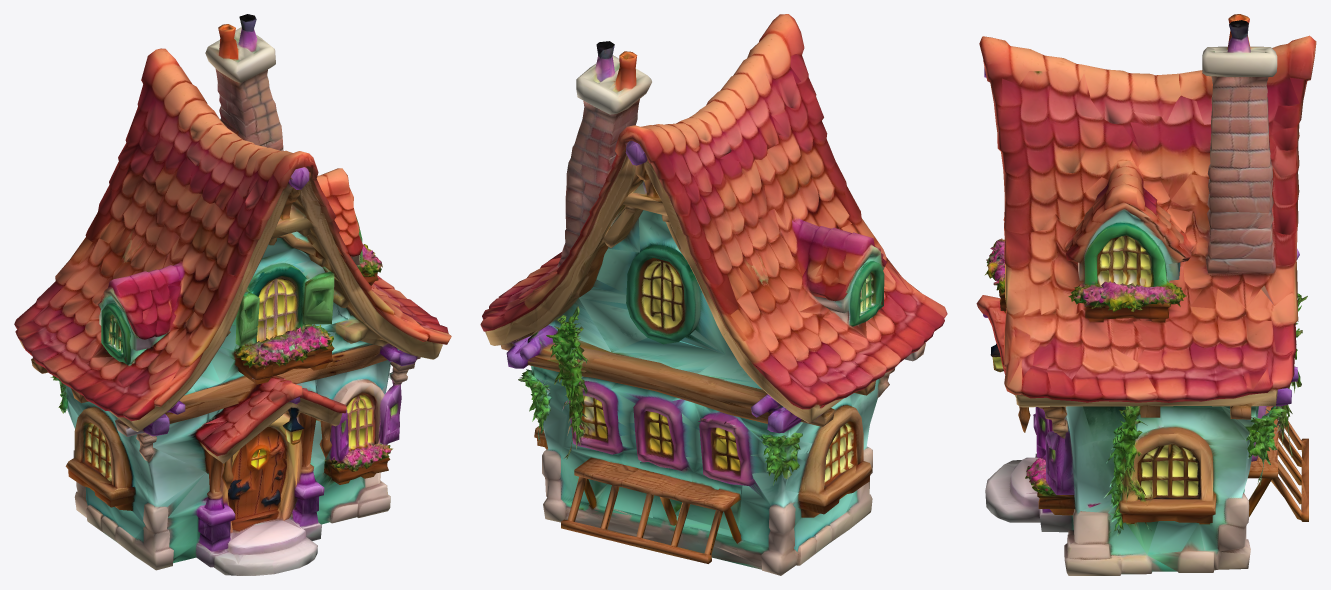
The model's file is house1.glb.
The picture shows the model from 3 angles, left to right: view 1: azimuth 30°, elevation 25°; view 2: azimuth 150°, elevation 25°; view 3: azimuth 270°, elevation 25°; orthographic projection. The views are drawn at different scales.
Parts seen in each view (by area): view 1: Mesh_0; view 2: Mesh_0; view 3: Mesh_0.
Part boxes in pixels (x1,y1,x2,y2): Mesh_0: (14,14,451,575); Mesh_0: (480,14,947,575); Mesh_0: (976,14,1316,575).
Size of the model in its own units: 1.5 by 1.9 by 1.13.
Materials: 1 (1 with a texture image).
